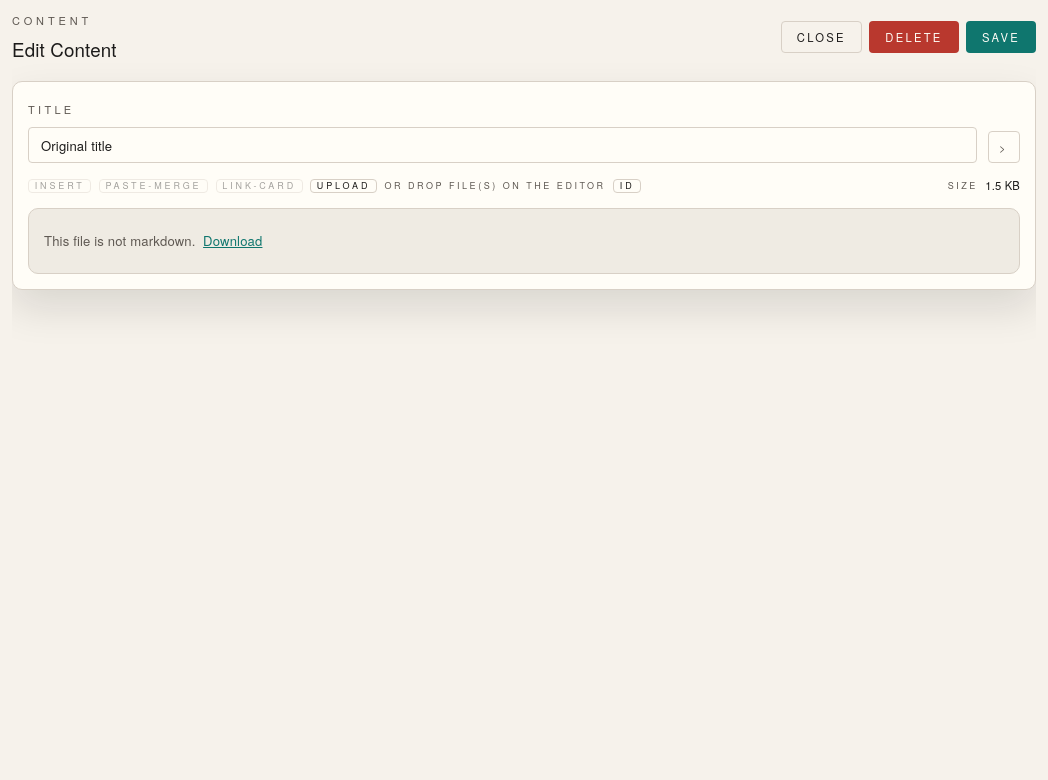
Test case: ContentEditorView › saves and collapses details on Enter in a details field
Check: the field labelled "Title" holds "Original title", box 28,127 -> 977,163
Click the button named "Expand details": point(1004, 147) 988,131 -> 1020,163
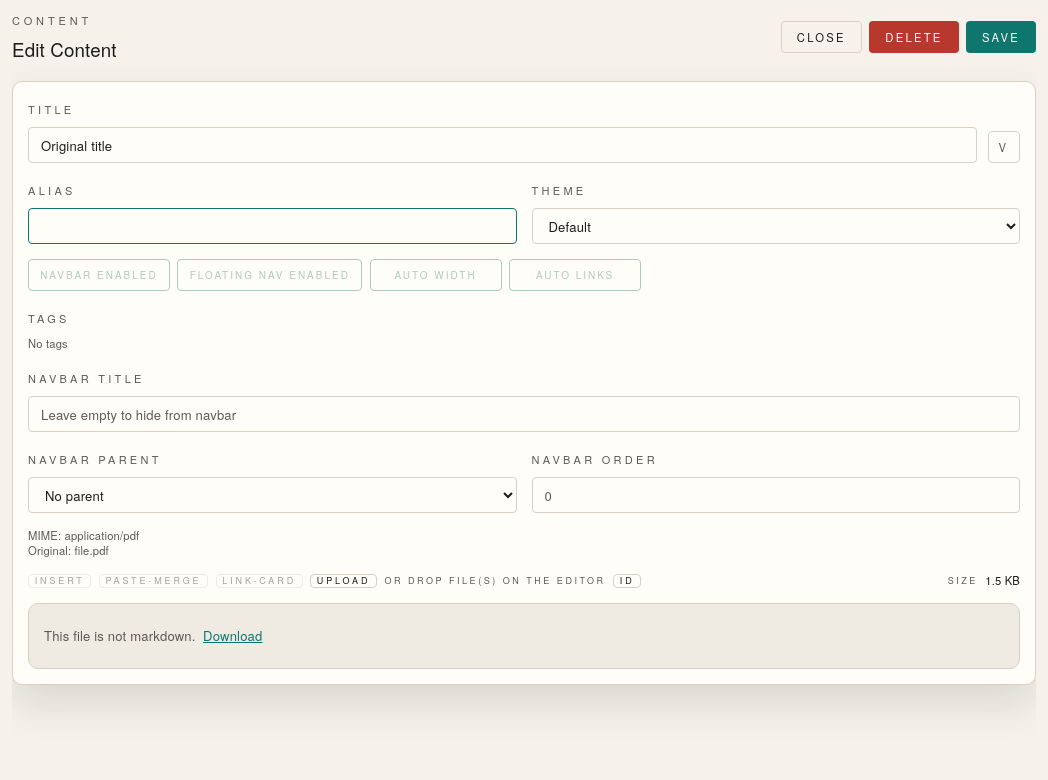
Press Enter in the field labelled "Alias", box 28,208 -> 516,244
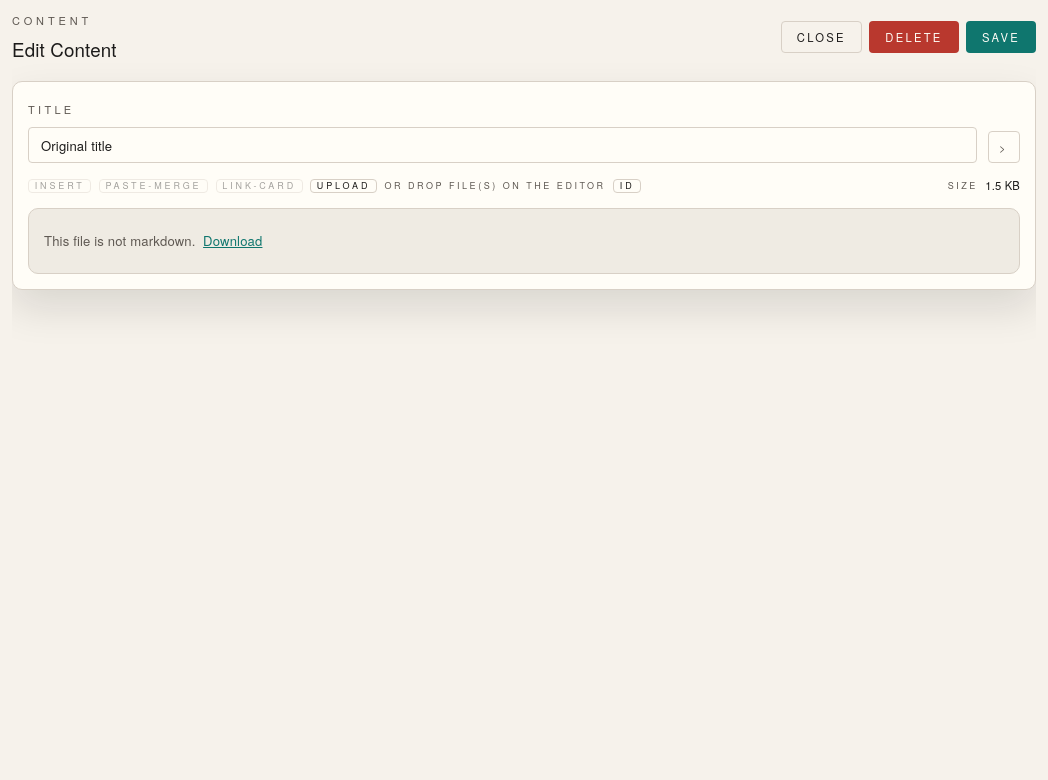
Check: the label labelled "Alias" is gone
